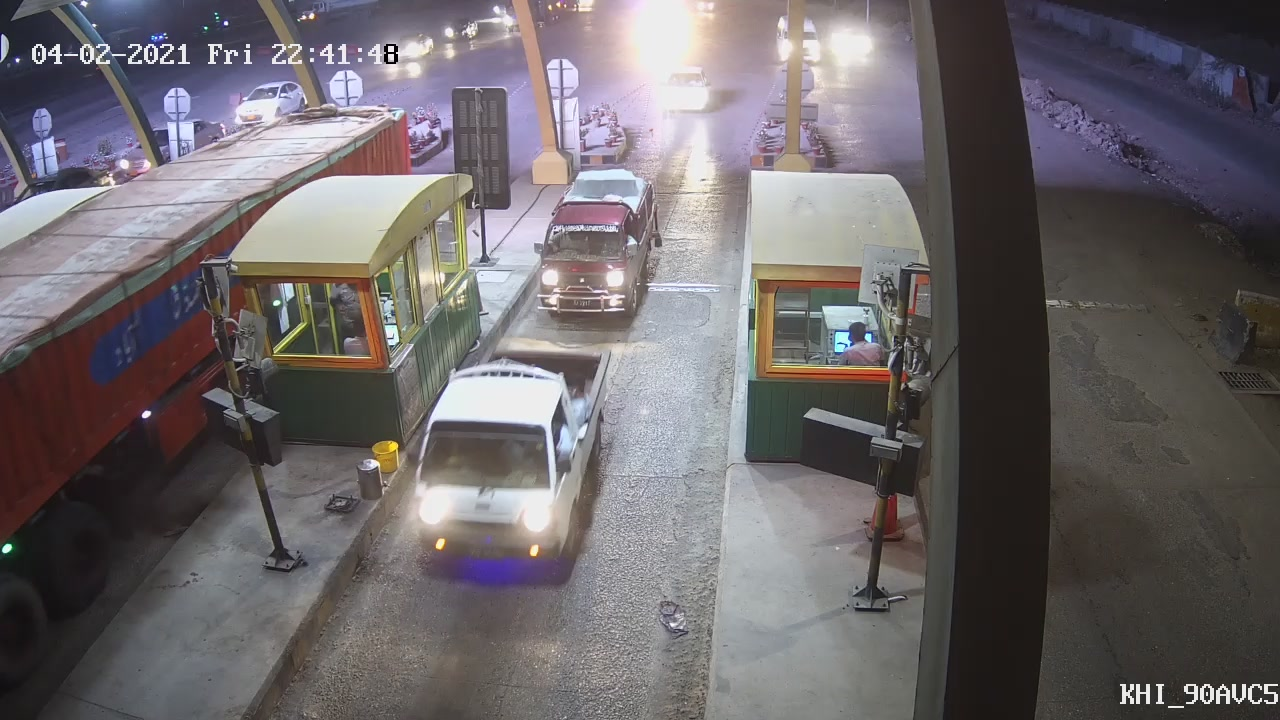F2: (407, 332, 622, 588), (524, 170, 670, 318)
